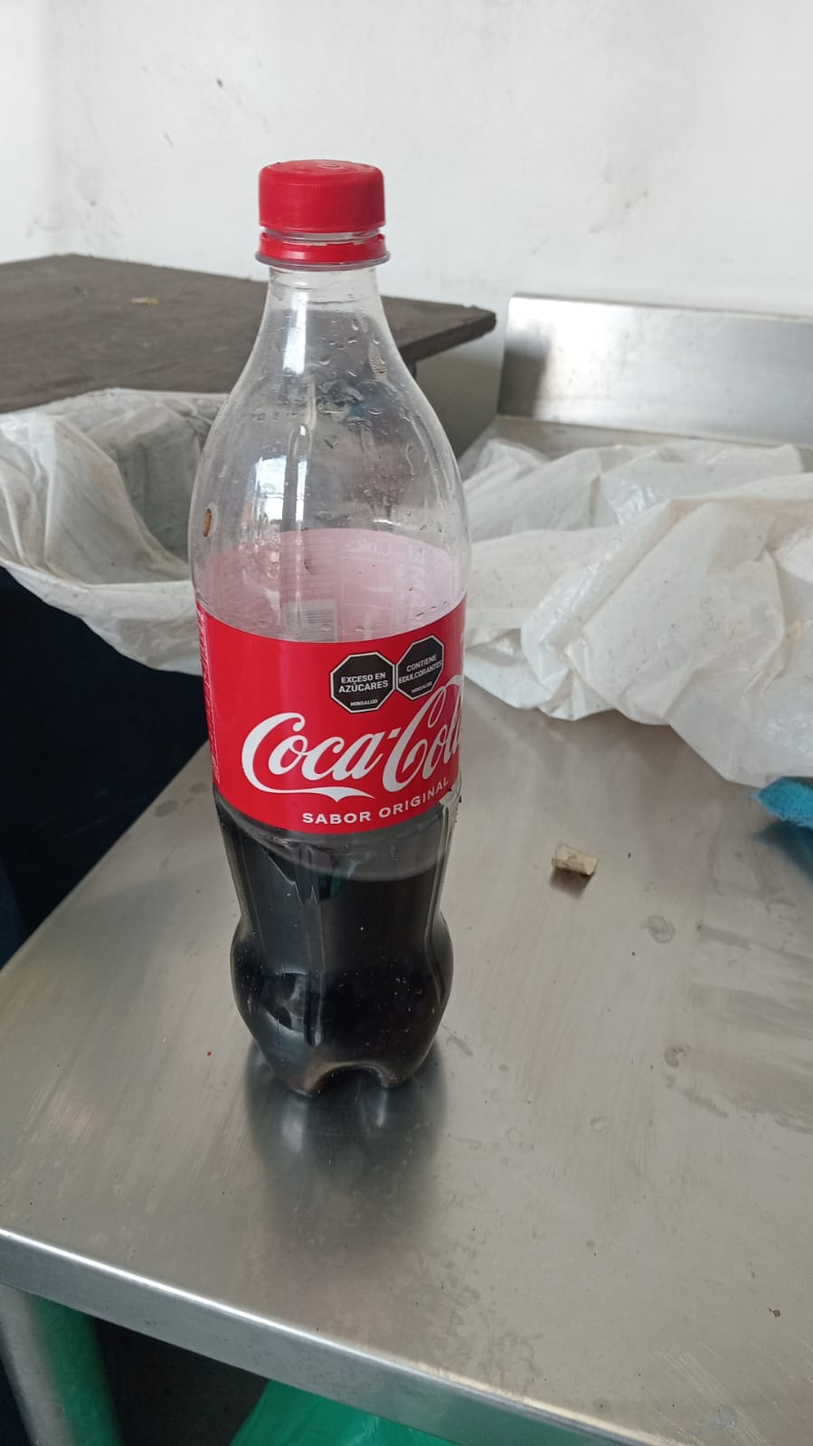Plastico: (190, 159, 470, 1099)
